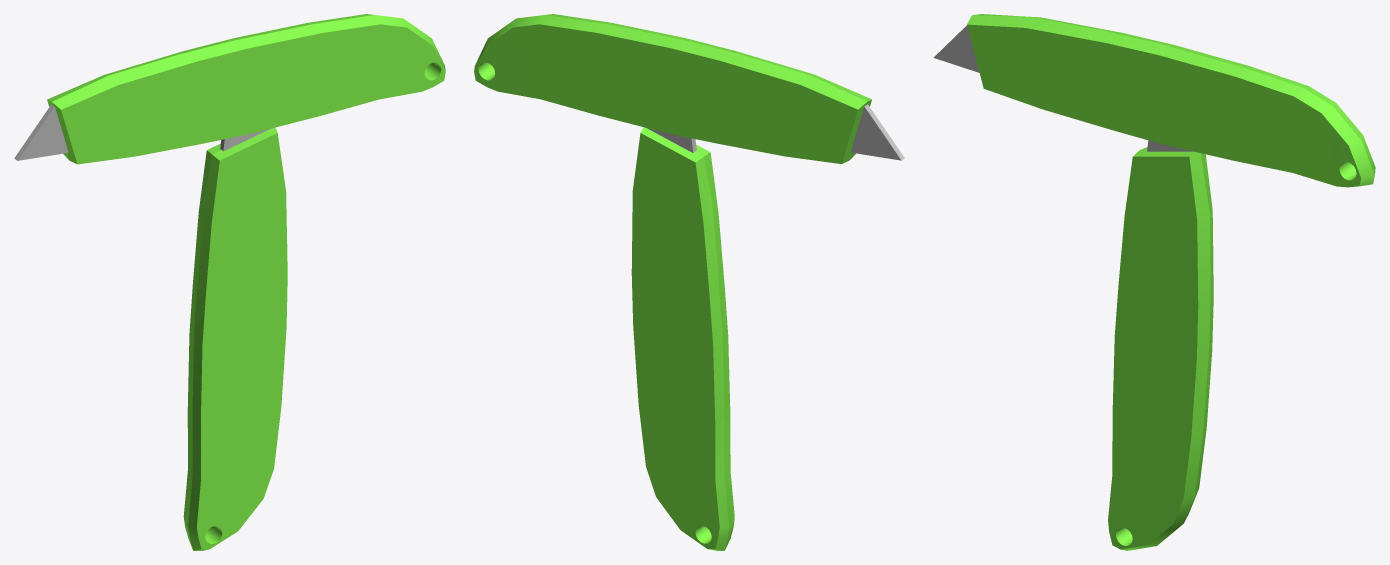
File: Emo_sParadise.fbx
The picture shows the model from 3 angles, left to right: view 1: azimuth 30°, elevation 25°; view 2: azimuth 150°, elevation 25°; view 3: azimuth 330°, elevation 25°; orthographic projection. The views are drawn at different scales.
Parts seen in each view (by area): view 1: EmoParadise; view 2: EmoParadise; view 3: EmoParadise.
Part boxes in pixels (<box>): EmoParadise: <box>14,14,445,550</box>; EmoParadise: <box>474,14,904,550</box>; EmoParadise: <box>933,14,1375,550</box>.
Bounding box in the file's own units: 443 × 496 × 29.27.
